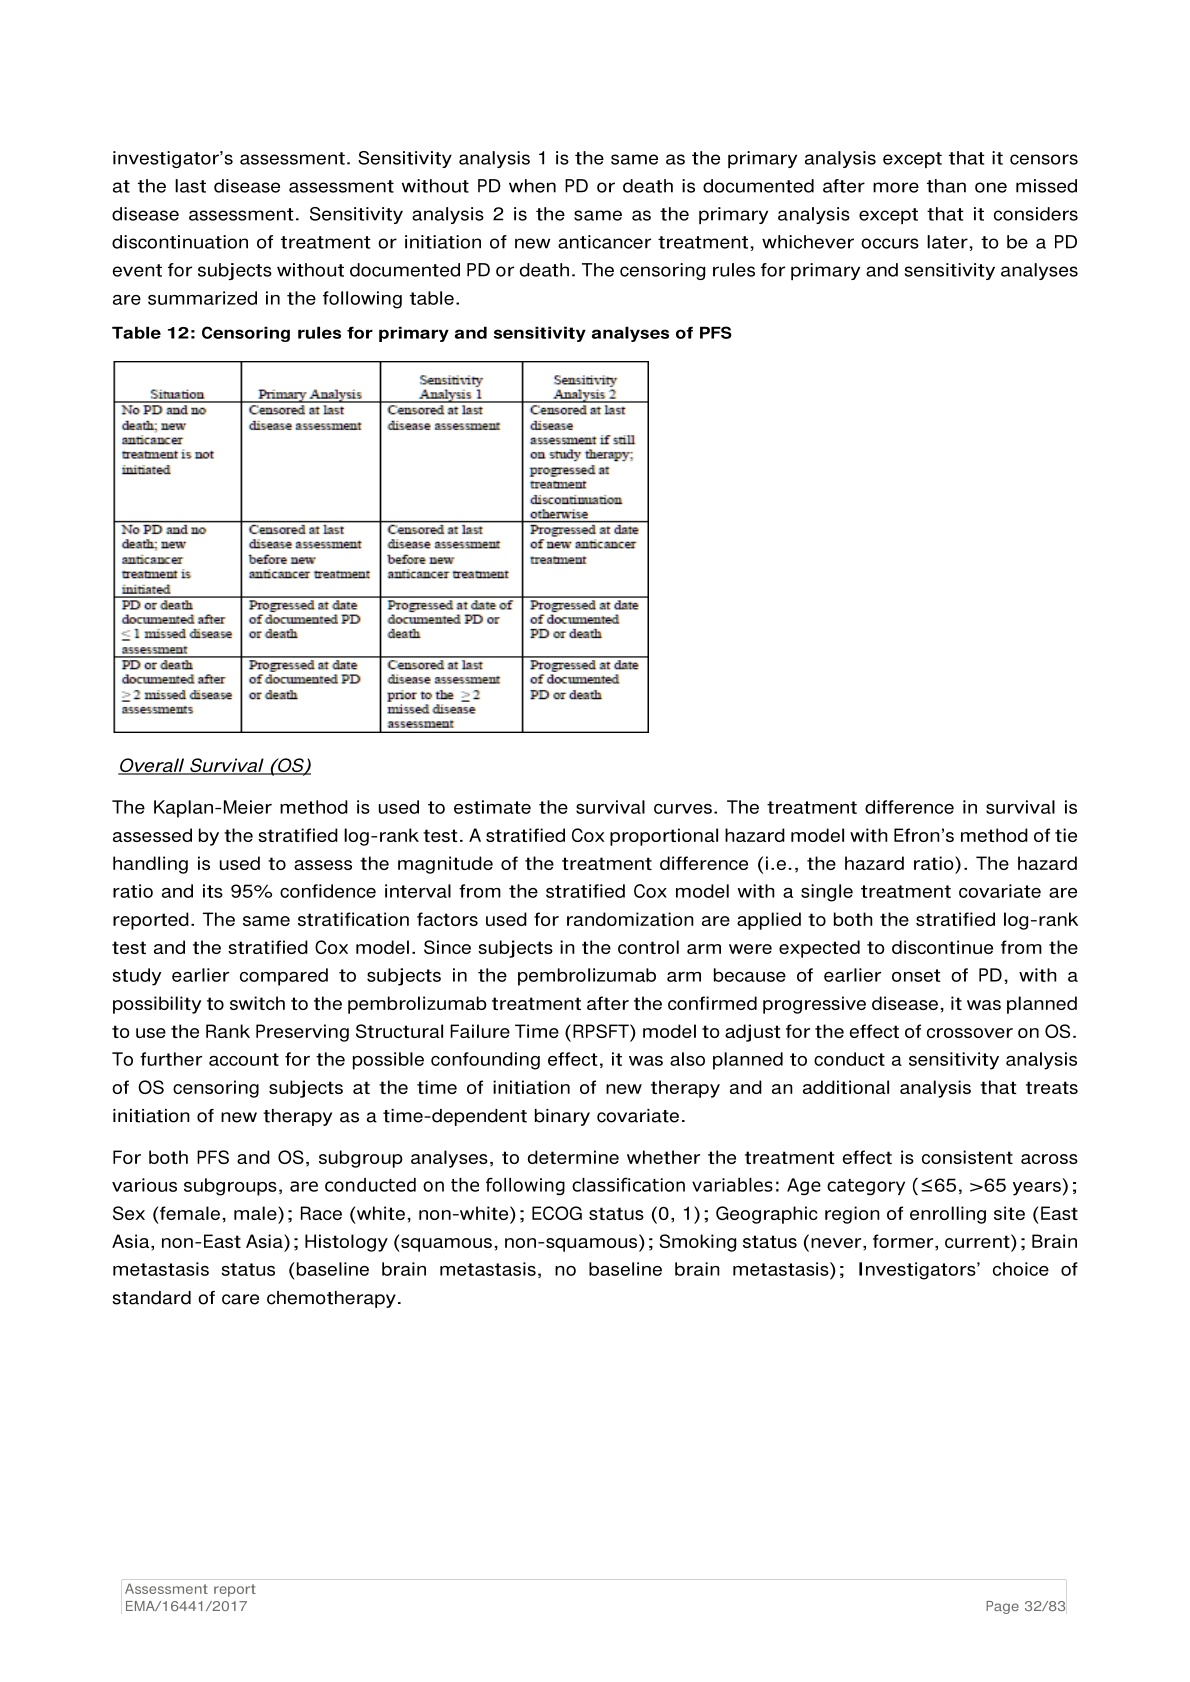full_lined: (113, 361, 650, 733)
